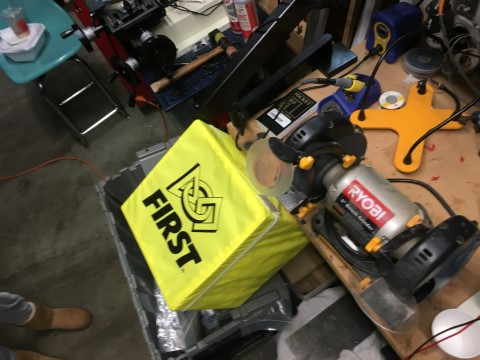cube: (119, 119, 314, 312)
